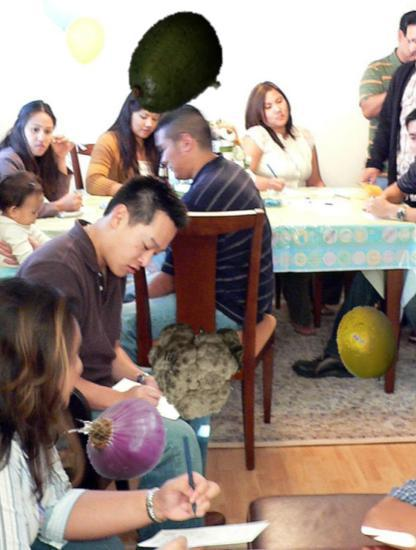Avocado: (121, 10, 233, 122)
Cauliflower: (147, 312, 250, 415)
Maracuja: (329, 305, 407, 383)
Onion: (64, 388, 168, 492)
